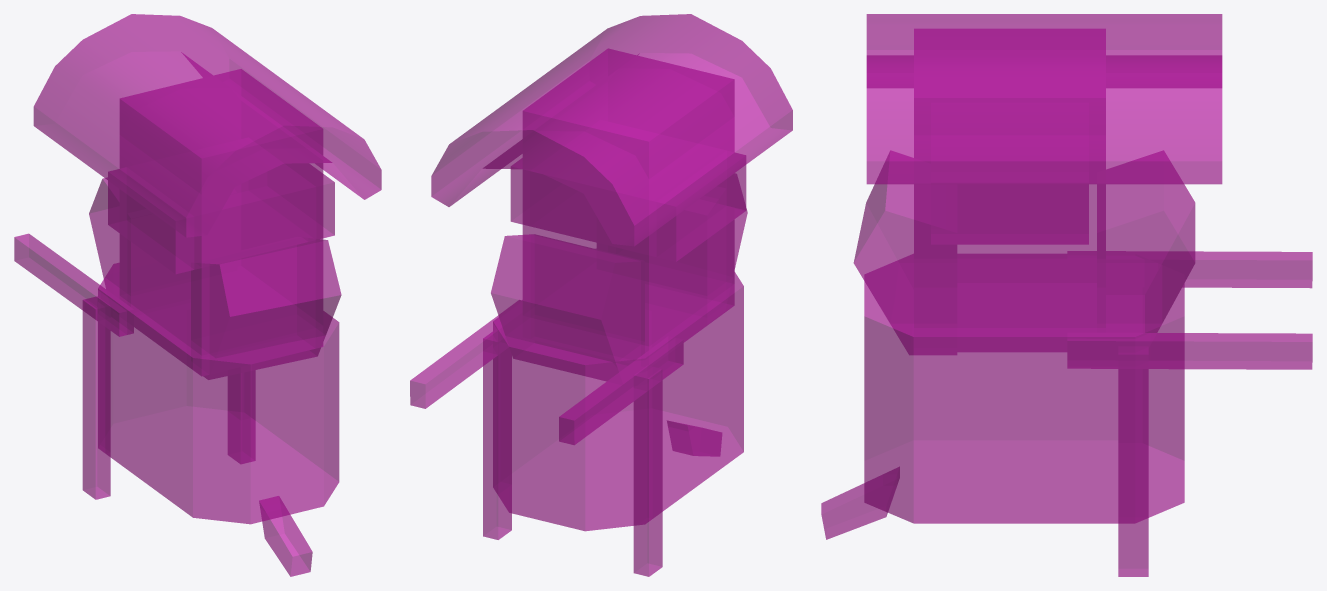
The model's file is SM_Prop_Cart_Candyfloss_01_Collision.fbx.
3 views of the same model, side by side, from view 1: azimuth 30°, elevation 25°; view 2: azimuth 150°, elevation 25°; view 3: azimuth 270°, elevation 25° (orthographic). The views are drawn at different scales.
Visible parts, largest first — view 1: SM_Prop_Cart_Candyfloss_01_Collision; view 2: SM_Prop_Cart_Candyfloss_01_Collision; view 3: SM_Prop_Cart_Candyfloss_01_Collision.
Boxes of the visible parts, left/top/right/bottom form: SM_Prop_Cart_Candyfloss_01_Collision: left=14, top=14, right=381, bottom=576; SM_Prop_Cart_Candyfloss_01_Collision: left=410, top=14, right=792, bottom=576; SM_Prop_Cart_Candyfloss_01_Collision: left=821, top=14, right=1312, bottom=576.
Bounding box in the file's own units: 107 × 227 × 199.
